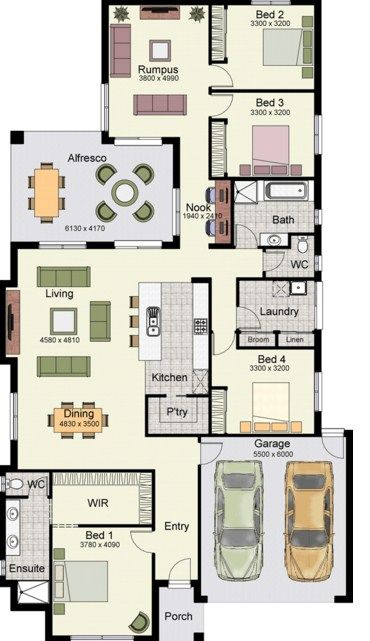door: (210, 65, 236, 89), (211, 93, 237, 117), (234, 222, 260, 246), (263, 249, 289, 273), (238, 306, 264, 330), (211, 332, 237, 356), (201, 440, 227, 464), (166, 556, 192, 580), (126, 529, 152, 553)
room: (48, 524, 155, 641), (208, 346, 322, 437), (209, 1, 321, 93), (208, 89, 321, 180)
